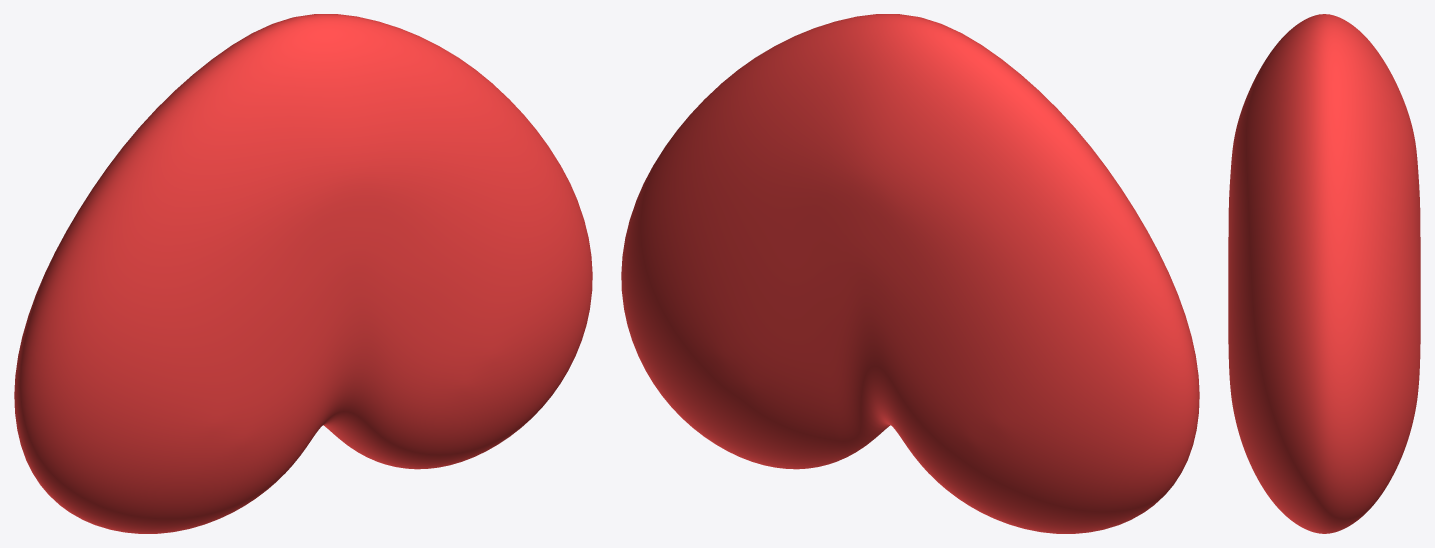
3 renders of one model, left to right at view 1: azimuth 30°, elevation 25°; view 2: azimuth 150°, elevation 25°; view 3: azimuth 270°, elevation 25°, orthographic. The views are drawn at different scales.
Parts seen in each view (by area): view 1: OBJ; view 2: OBJ; view 3: OBJ.
Part boxes in pixels (x1,y1,x2,y2): OBJ: [14, 14, 592, 533]; OBJ: [621, 14, 1199, 533]; OBJ: [1228, 14, 1420, 533].
Size of the model in its own units: 117 by 93.32 by 37.83.
Materials: 1 (1 with a texture image).
